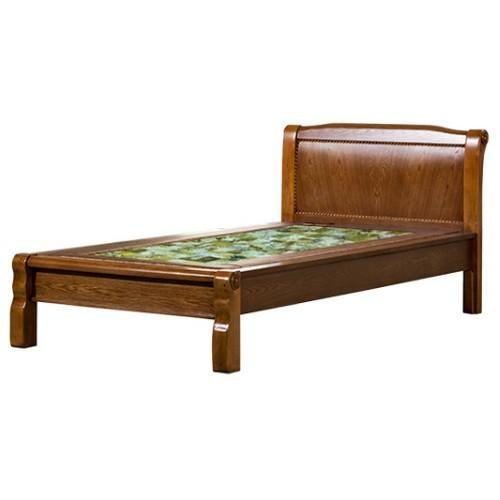Bed-Mattress: (10, 110, 500, 378)
